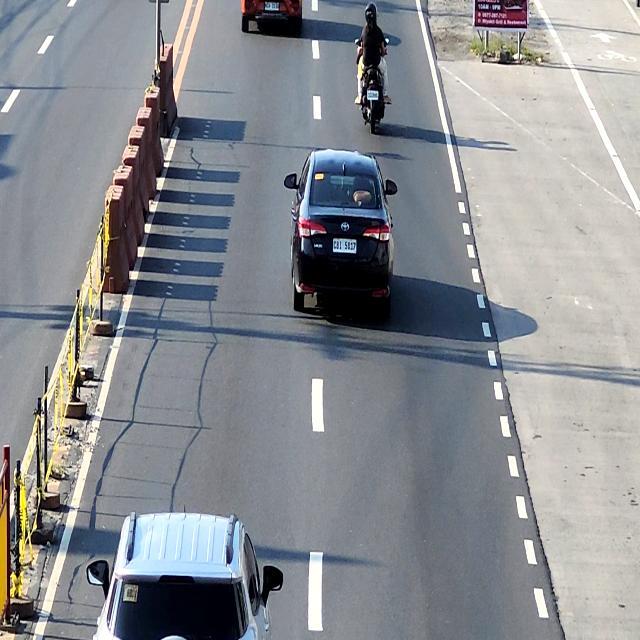Car: (85, 511, 284, 640), (285, 148, 397, 324), (241, 0, 302, 31)
License-Plate: (333, 239, 357, 254), (264, 2, 280, 10), (367, 90, 379, 100)
Motorcycle: (355, 36, 390, 136)
